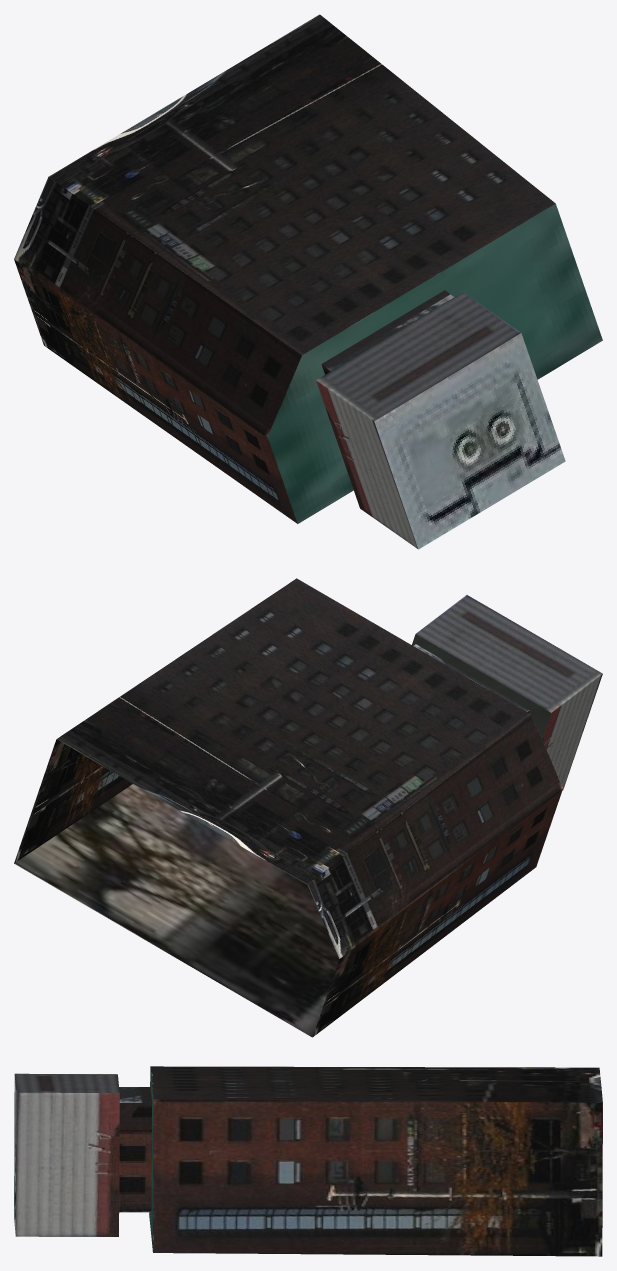
3 renders of one model, top to bottom at view 1: azimuth 30°, elevation 25°; view 2: azimuth 150°, elevation 25°; view 3: azimuth 270°, elevation 25°, orthographic. The views are drawn at different scales.
Visible parts, largest first — view 1: IndexedFaceSet__7_0, IndexedFaceSet__6_0, IndexedFaceSet__4_0, IndexedFaceSet__12_0, IndexedFaceSet__5_0, IndexedFaceSet__13_0, IndexedFaceSet__10_0, IndexedFaceSet; view 2: IndexedFaceSet__7_0, IndexedFaceSet__9_0, IndexedFaceSet__6_0, IndexedFaceSet__5_0, IndexedFaceSet__13_0, IndexedFaceSet__8_0, IndexedFaceSet__10_0, IndexedFaceSet__14_0; view 3: IndexedFaceSet__8_0, IndexedFaceSet__7_0, IndexedFaceSet__11_0, IndexedFaceSet__1_0, IndexedFaceSet__13_0, IndexedFaceSet, IndexedFaceSet__4_0, IndexedFaceSet__12_0.
Part boxes in pixels (left/top/right/bottom): IndexedFaceSet__7_0: left=48, top=14, right=555, bottom=355; IndexedFaceSet__6_0: left=14, top=177, right=301, bottom=436; IndexedFaceSet__4_0: left=268, top=203, right=602, bottom=523; IndexedFaceSet__12_0: left=374, top=333, right=565, bottom=549; IndexedFaceSet__5_0: left=14, top=259, right=297, bottom=523; IndexedFaceSet__13_0: left=316, top=292, right=520, bottom=421; IndexedFaceSet__10_0: left=316, top=380, right=417, bottom=548; IndexedFaceSet: left=321, top=290, right=454, bottom=370; IndexedFaceSet__7_0: left=56, top=578, right=530, bottom=884; IndexedFaceSet__9_0: left=14, top=784, right=339, bottom=1037; IndexedFaceSet__6_0: left=307, top=714, right=562, bottom=958; IndexedFaceSet__5_0: left=313, top=789, right=562, bottom=1036; IndexedFaceSet__13_0: left=416, top=595, right=602, bottom=712; IndexedFaceSet__8_0: left=14, top=739, right=132, bottom=863; IndexedFaceSet__10_0: left=542, top=674, right=602, bottom=790; IndexedFaceSet__14_0: left=412, top=634, right=551, bottom=739; IndexedFaceSet__8_0: left=153, top=1099, right=602, bottom=1256; IndexedFaceSet__7_0: left=150, top=1066, right=602, bottom=1102; IndexedFaceSet__11_0: left=15, top=1092, right=119, bottom=1236; IndexedFaceSet__1_0: left=119, top=1103, right=151, bottom=1212; IndexedFaceSet__13_0: left=14, top=1073, right=119, bottom=1092; IndexedFaceSet: left=119, top=1087, right=151, bottom=1102; IndexedFaceSet__4_0: left=149, top=1067, right=153, bottom=1251; IndexedFaceSet__12_0: left=14, top=1077, right=16, bottom=1233.
Bounding box in the file's own units: 28.3 × 19.91 × 45.19.
11 materials, 11 textured.
